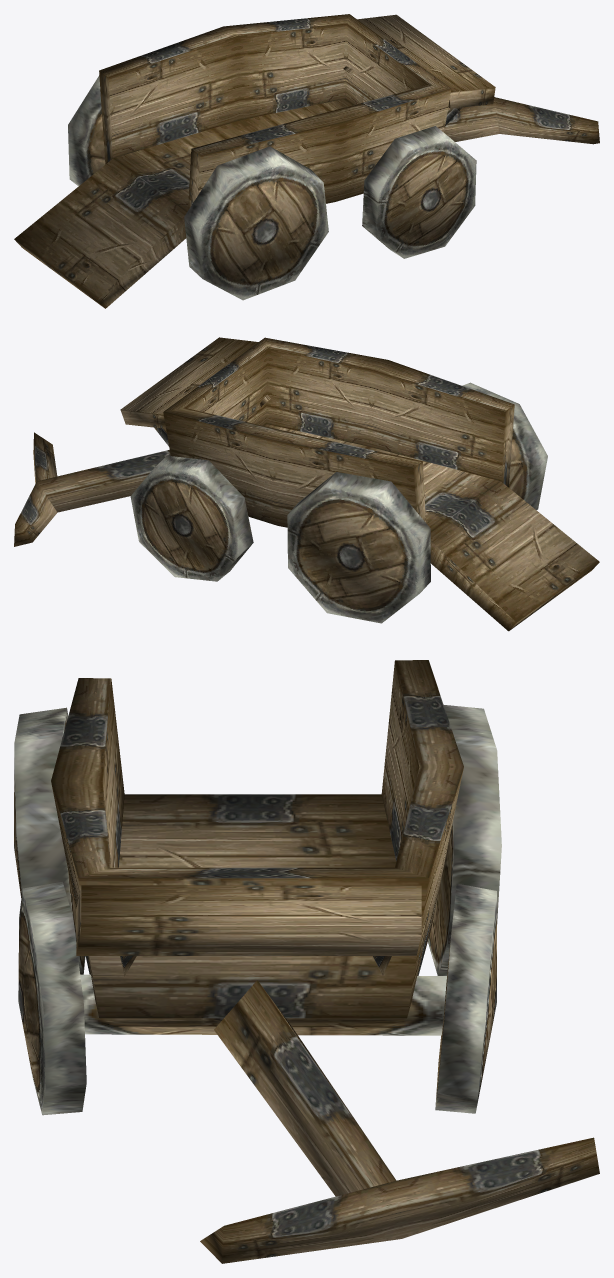
File: westfallwagon01.glb
3 renders of one model, top to bottom at view 1: azimuth 30°, elevation 25°; view 2: azimuth 150°, elevation 25°; view 3: azimuth 270°, elevation 25°, orthographic. The views are drawn at different scales.
Size of the model in its own units: 9.12 by 2.57 by 5.03.
2 materials, 2 textured.
